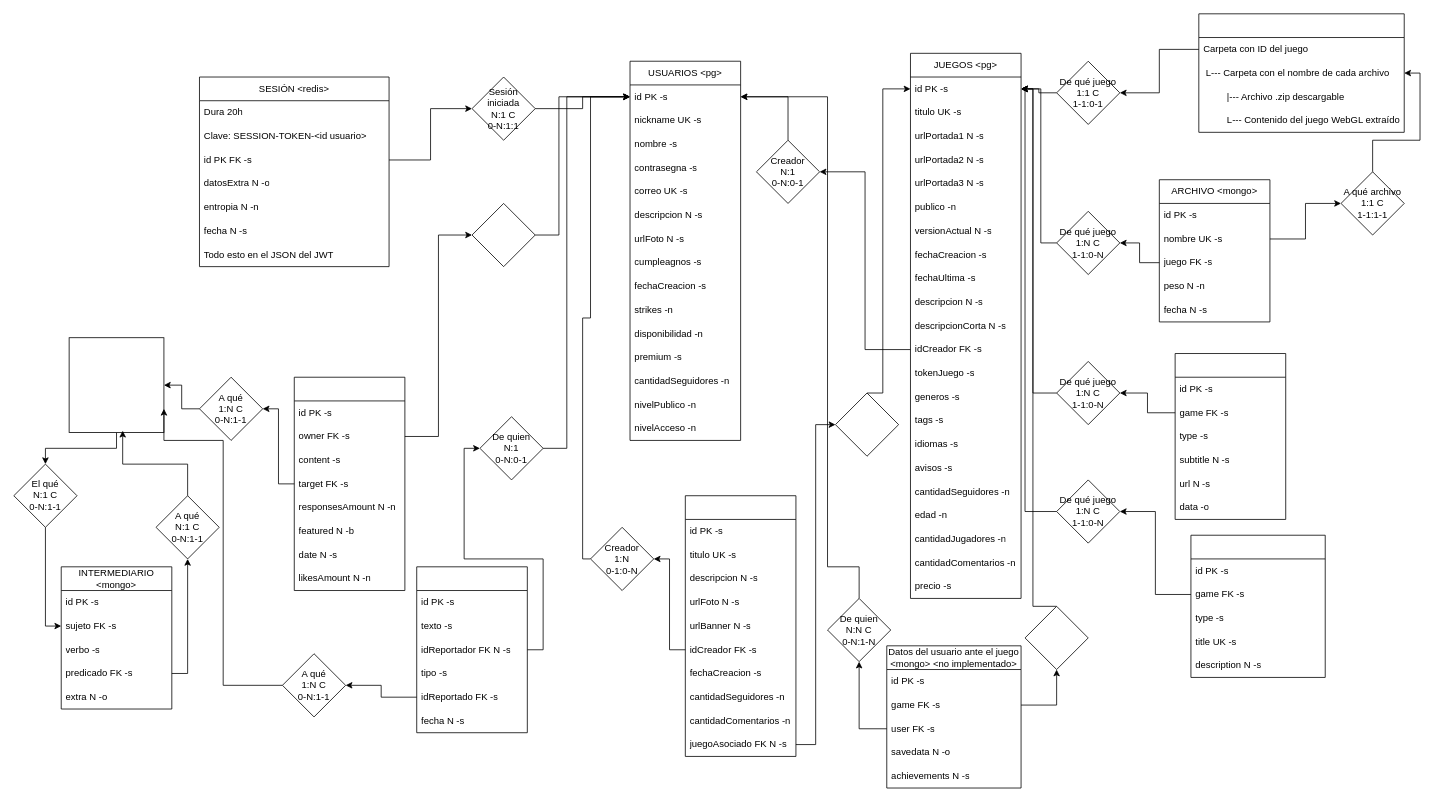
Some shapes in this 1440 by 802 pixel diagram are drawn without their labels. The box of each missing label's shape, as (x1, y1, x2, y2) in pixels:
ADICIONJUEGO <mongo>: (1174, 353, 1286, 519)
Archivos del juego <file>: (1198, 13, 1404, 132)
COMENTARIOS <mongo>: (293, 376, 405, 591)
De quien N:1 C 0-N:1:1: (471, 203, 535, 267)
De qué juego N:1 0-N:0-1: (835, 392, 899, 456)
De qué juego N:1 C 0-N:1-1: (1024, 606, 1088, 670)
FOROS <pg> <no implementado>: (685, 495, 796, 756)
LOGRO <mongo> <no implementado>: (1190, 534, 1325, 677)
REPORTES <mongo>: (416, 566, 527, 733)
Varias posbilidades: JUEGO USUARIO COMENTARIO FORO: (68, 337, 164, 433)
